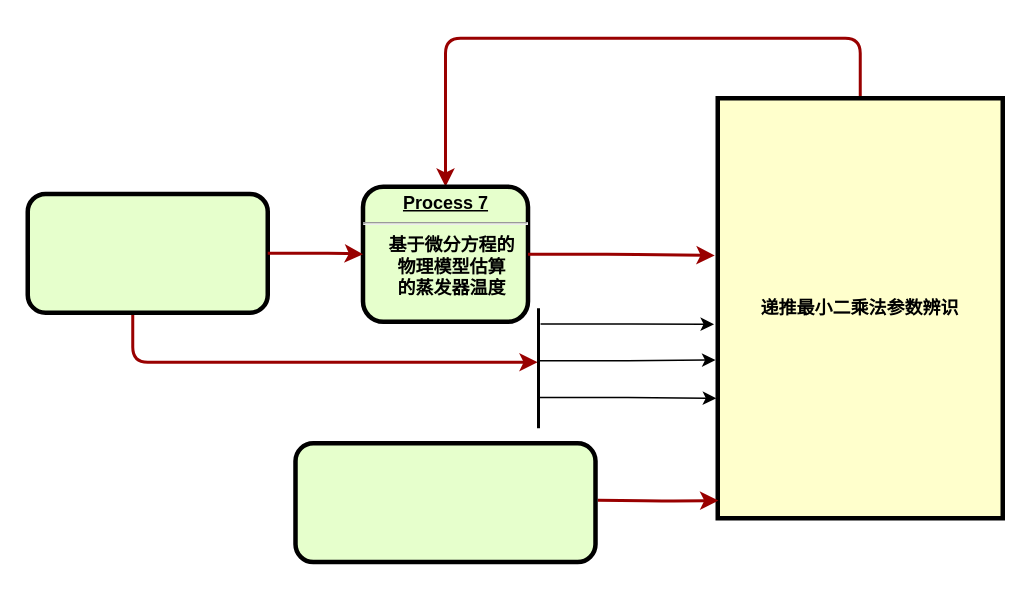
This 1031x590 diagram has some shape labels left out. The shapes that lost their labels are listed below. From the top down, each one's box as (x1, y1, x2, y2) in pixels, then its label:
(25, 191, 269, 314): Process 6 空调外界系统 输入
(292, 440, 597, 564): Process 6 传感器实测的蒸发器温度
